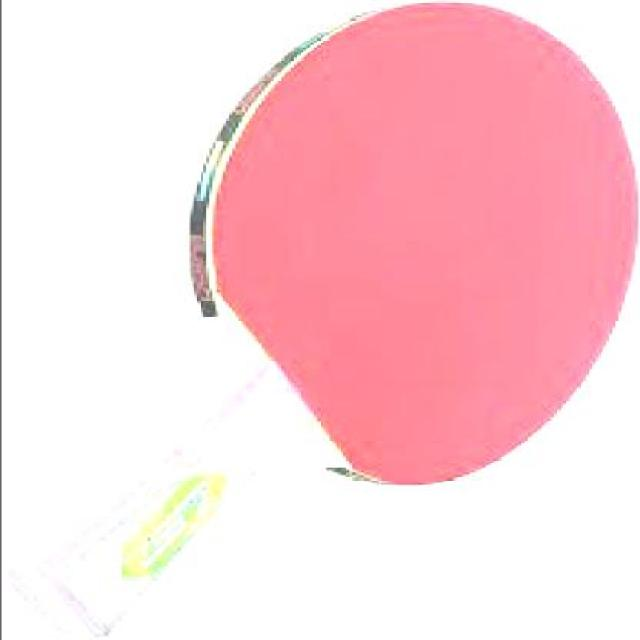table_tennis_racket: (183, 0, 638, 498)
